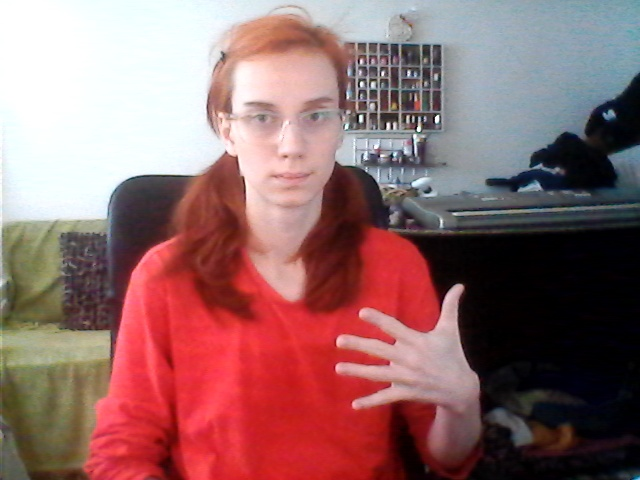pat: (332, 282, 479, 416)
